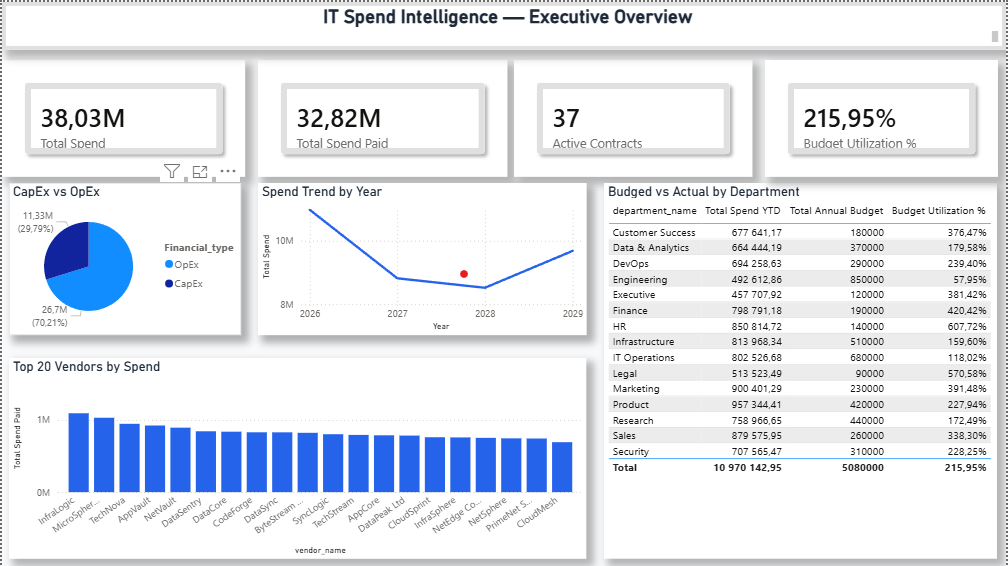

This screenshot's page, from the dashboard's own definition file:
{"tool":"powerbi","page":{"name":"Executive Overview","canvas":[1280,720],"ordinal":0},"visuals":[{"type":"cardVisual","fields":{"Data":["_Measures.Total Spend"]},"box":[0,74,310,149.1],"z":0},{"type":"cardVisual","fields":{"Data":["_Measures.Total Spend Paid"]},"box":[326.5,74,318.2,149.1],"z":1000},{"type":"cardVisual","fields":{"Data":["_Measures.Active Contracts"]},"box":[652.9,74,304.1,149.1],"z":2000},{"type":"clusteredColumnChart","title":"Top 20 Vendors by Spend","fields":{"Y":["_Measures.Total Spend Paid"],"Category":["vendors.vendor_name"]},"box":[9.4,454.5,736.3,256],"z":3000},{"type":"pieChart","title":"CapEx vs OpEx","fields":{"Category":["invoices_main.Financial_type"],"Y":["_Measures.Total Spend"]},"box":[9.4,231.3,295.9,193.8],"z":4000},{"type":"lineChart","title":"Spend Trend by Year","fields":{"Category":["invoices_main.invoice_date.Variation.Date Hierarchy.Year","invoices_main.invoice_date.Variation.Date Hierarchy.Quarter","invoices_main.invoice_date.Variation.Date Hierarchy.Month","invoices_main.invoice_date.Variation.Date Hierarchy.Day"],"Y":["_Measures.Total Spend"]},"box":[326.5,231.3,419.2,193.8],"z":5000},{"type":"tableEx","title":"Budged vs Actual by Department","fields":{"Values":["cost_centers.department_name","_Measures.Total Spend YTD","_Measures.Total Annual Budget","_Measures.Budget Utilization %"]},"box":[768,231.3,501.4,479.1],"z":6000},{"type":"textbox","title":"IT Spend Intelligence — Executive Overview","box":[0,0,1280,60.8],"z":7000},{"type":"cardVisual","fields":{"Data":["_Measures.Budget Utilization %"]},"box":[972.3,74,297.1,149.1],"z":8000}]}

Visuals, with their boxes in screenshot pixels (x1, y1, x2, y2), scaled from the page's 1280x720 canvas onto the 1008x566 screenshot:
cardVisual - _Measures.Total Spend: BBox(0, 58, 244, 175)
cardVisual - _Measures.Total Spend Paid: BBox(257, 58, 508, 175)
cardVisual - _Measures.Active Contracts: BBox(514, 58, 754, 175)
"Top 20 Vendors by Spend" clusteredColumnChart: BBox(7, 357, 587, 559)
"CapEx vs OpEx" pieChart: BBox(7, 182, 240, 334)
"Spend Trend by Year" lineChart: BBox(257, 182, 587, 334)
"Budged vs Actual by Department" tableEx: BBox(605, 182, 1000, 558)
"IT Spend Intelligence — Executive Overview" textbox: BBox(0, 0, 1007, 48)
cardVisual - _Measures.Budget Utilization %: BBox(766, 58, 1000, 175)
